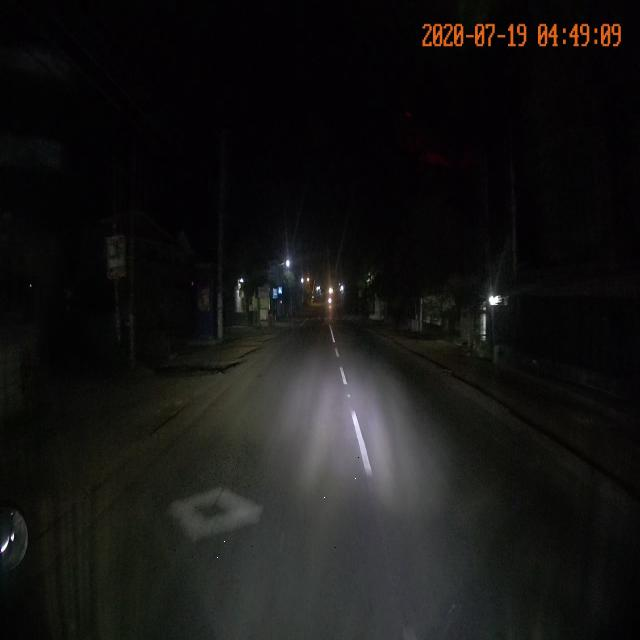diamond: (147, 439, 367, 578)
